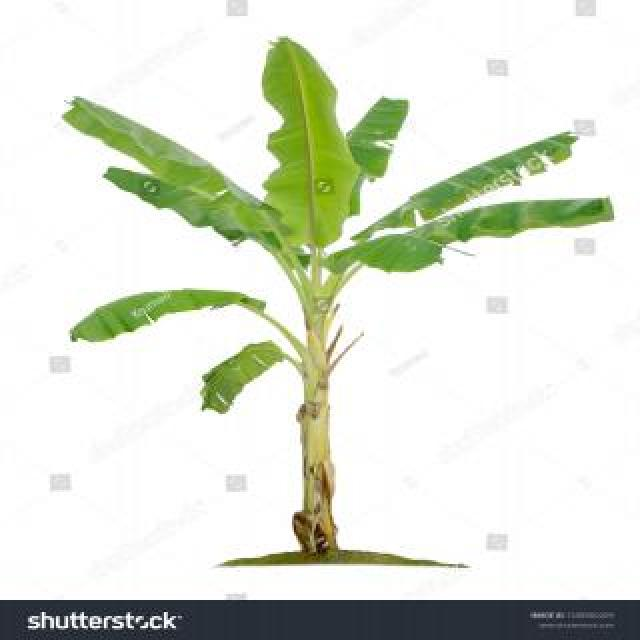Pisang: (42, 36, 610, 567)
